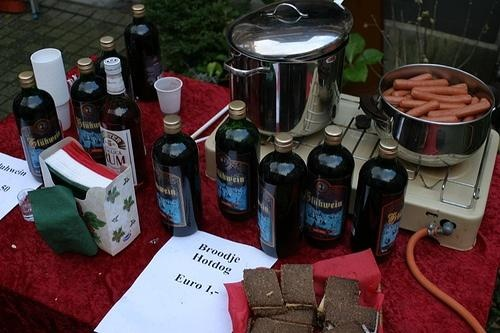bottle: (350, 139, 408, 264), (100, 58, 150, 188), (152, 115, 203, 237), (259, 134, 307, 260), (308, 126, 356, 251), (13, 71, 61, 184), (216, 102, 261, 222), (71, 57, 108, 166), (124, 6, 162, 102), (94, 36, 132, 91)
